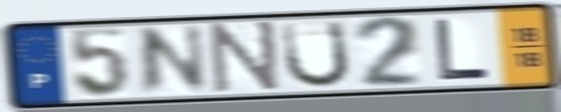2: (351, 14, 429, 91)
5: (63, 25, 134, 100)
L: (433, 16, 493, 84)
N: (136, 22, 211, 99), (209, 18, 282, 96)
U: (279, 18, 354, 91)
